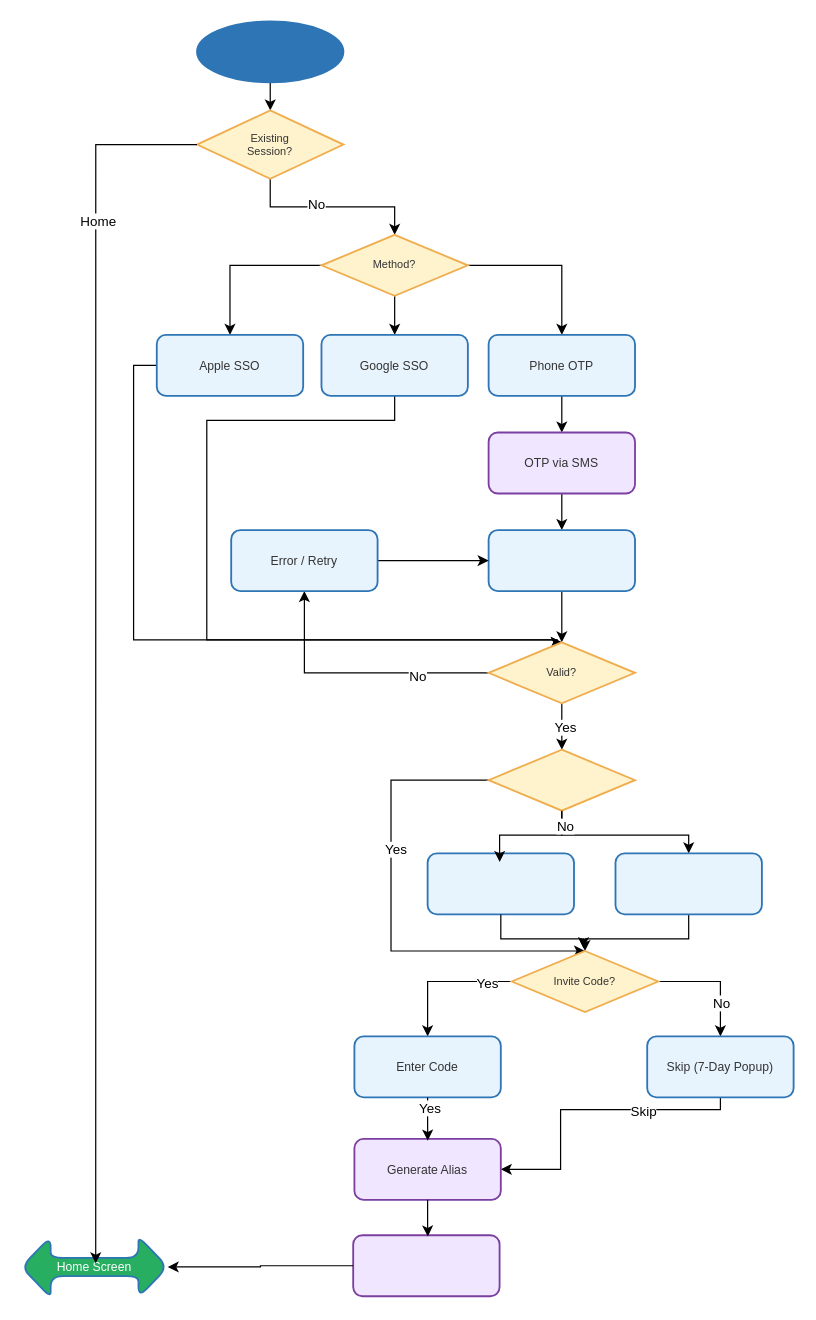
The diagram is 816 pixels wide and 1320 high, and some of its shapes have lost their labels. Each missing label, with the centre of its shape:
"2FA Bound?" goes at pixel 561 779.
"Bind Email" goes at pixel 688 883.
"Bind Phone" goes at pixel 500 883.
"Create Session" goes at pixel 426 1265.
"Enter OTP" goes at pixel 561 560.
"User Opens App" goes at pixel 270 51.
